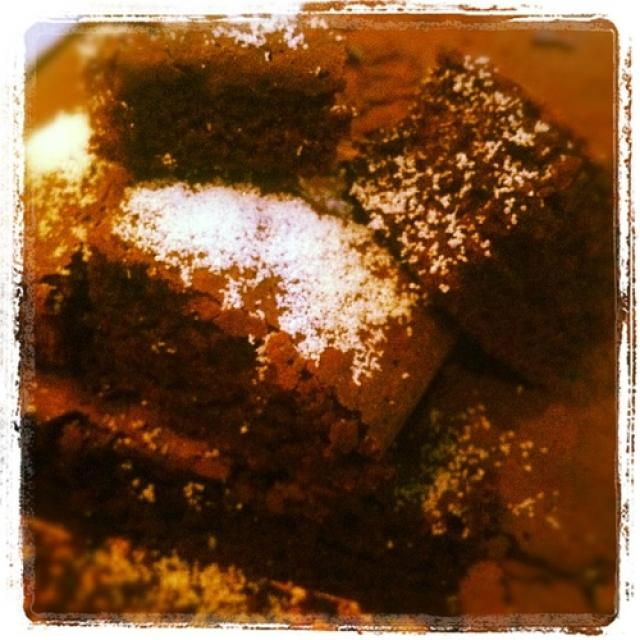蛋糕甜品: (40, 39, 594, 588)
